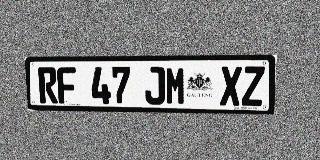4: (91, 67, 111, 104)
7: (111, 67, 131, 104)
F: (57, 67, 77, 104)
J: (145, 67, 165, 105)
M: (165, 67, 186, 105)
R: (38, 67, 58, 103)
X: (220, 66, 242, 106)
Z: (242, 66, 265, 106)
